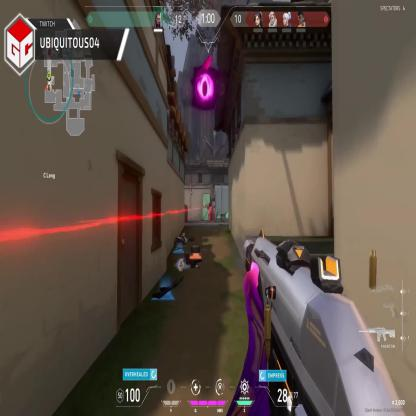enemy: (208, 204, 212, 221), (213, 206, 216, 221)
enemy_head: (214, 206, 216, 210), (209, 204, 211, 207)
